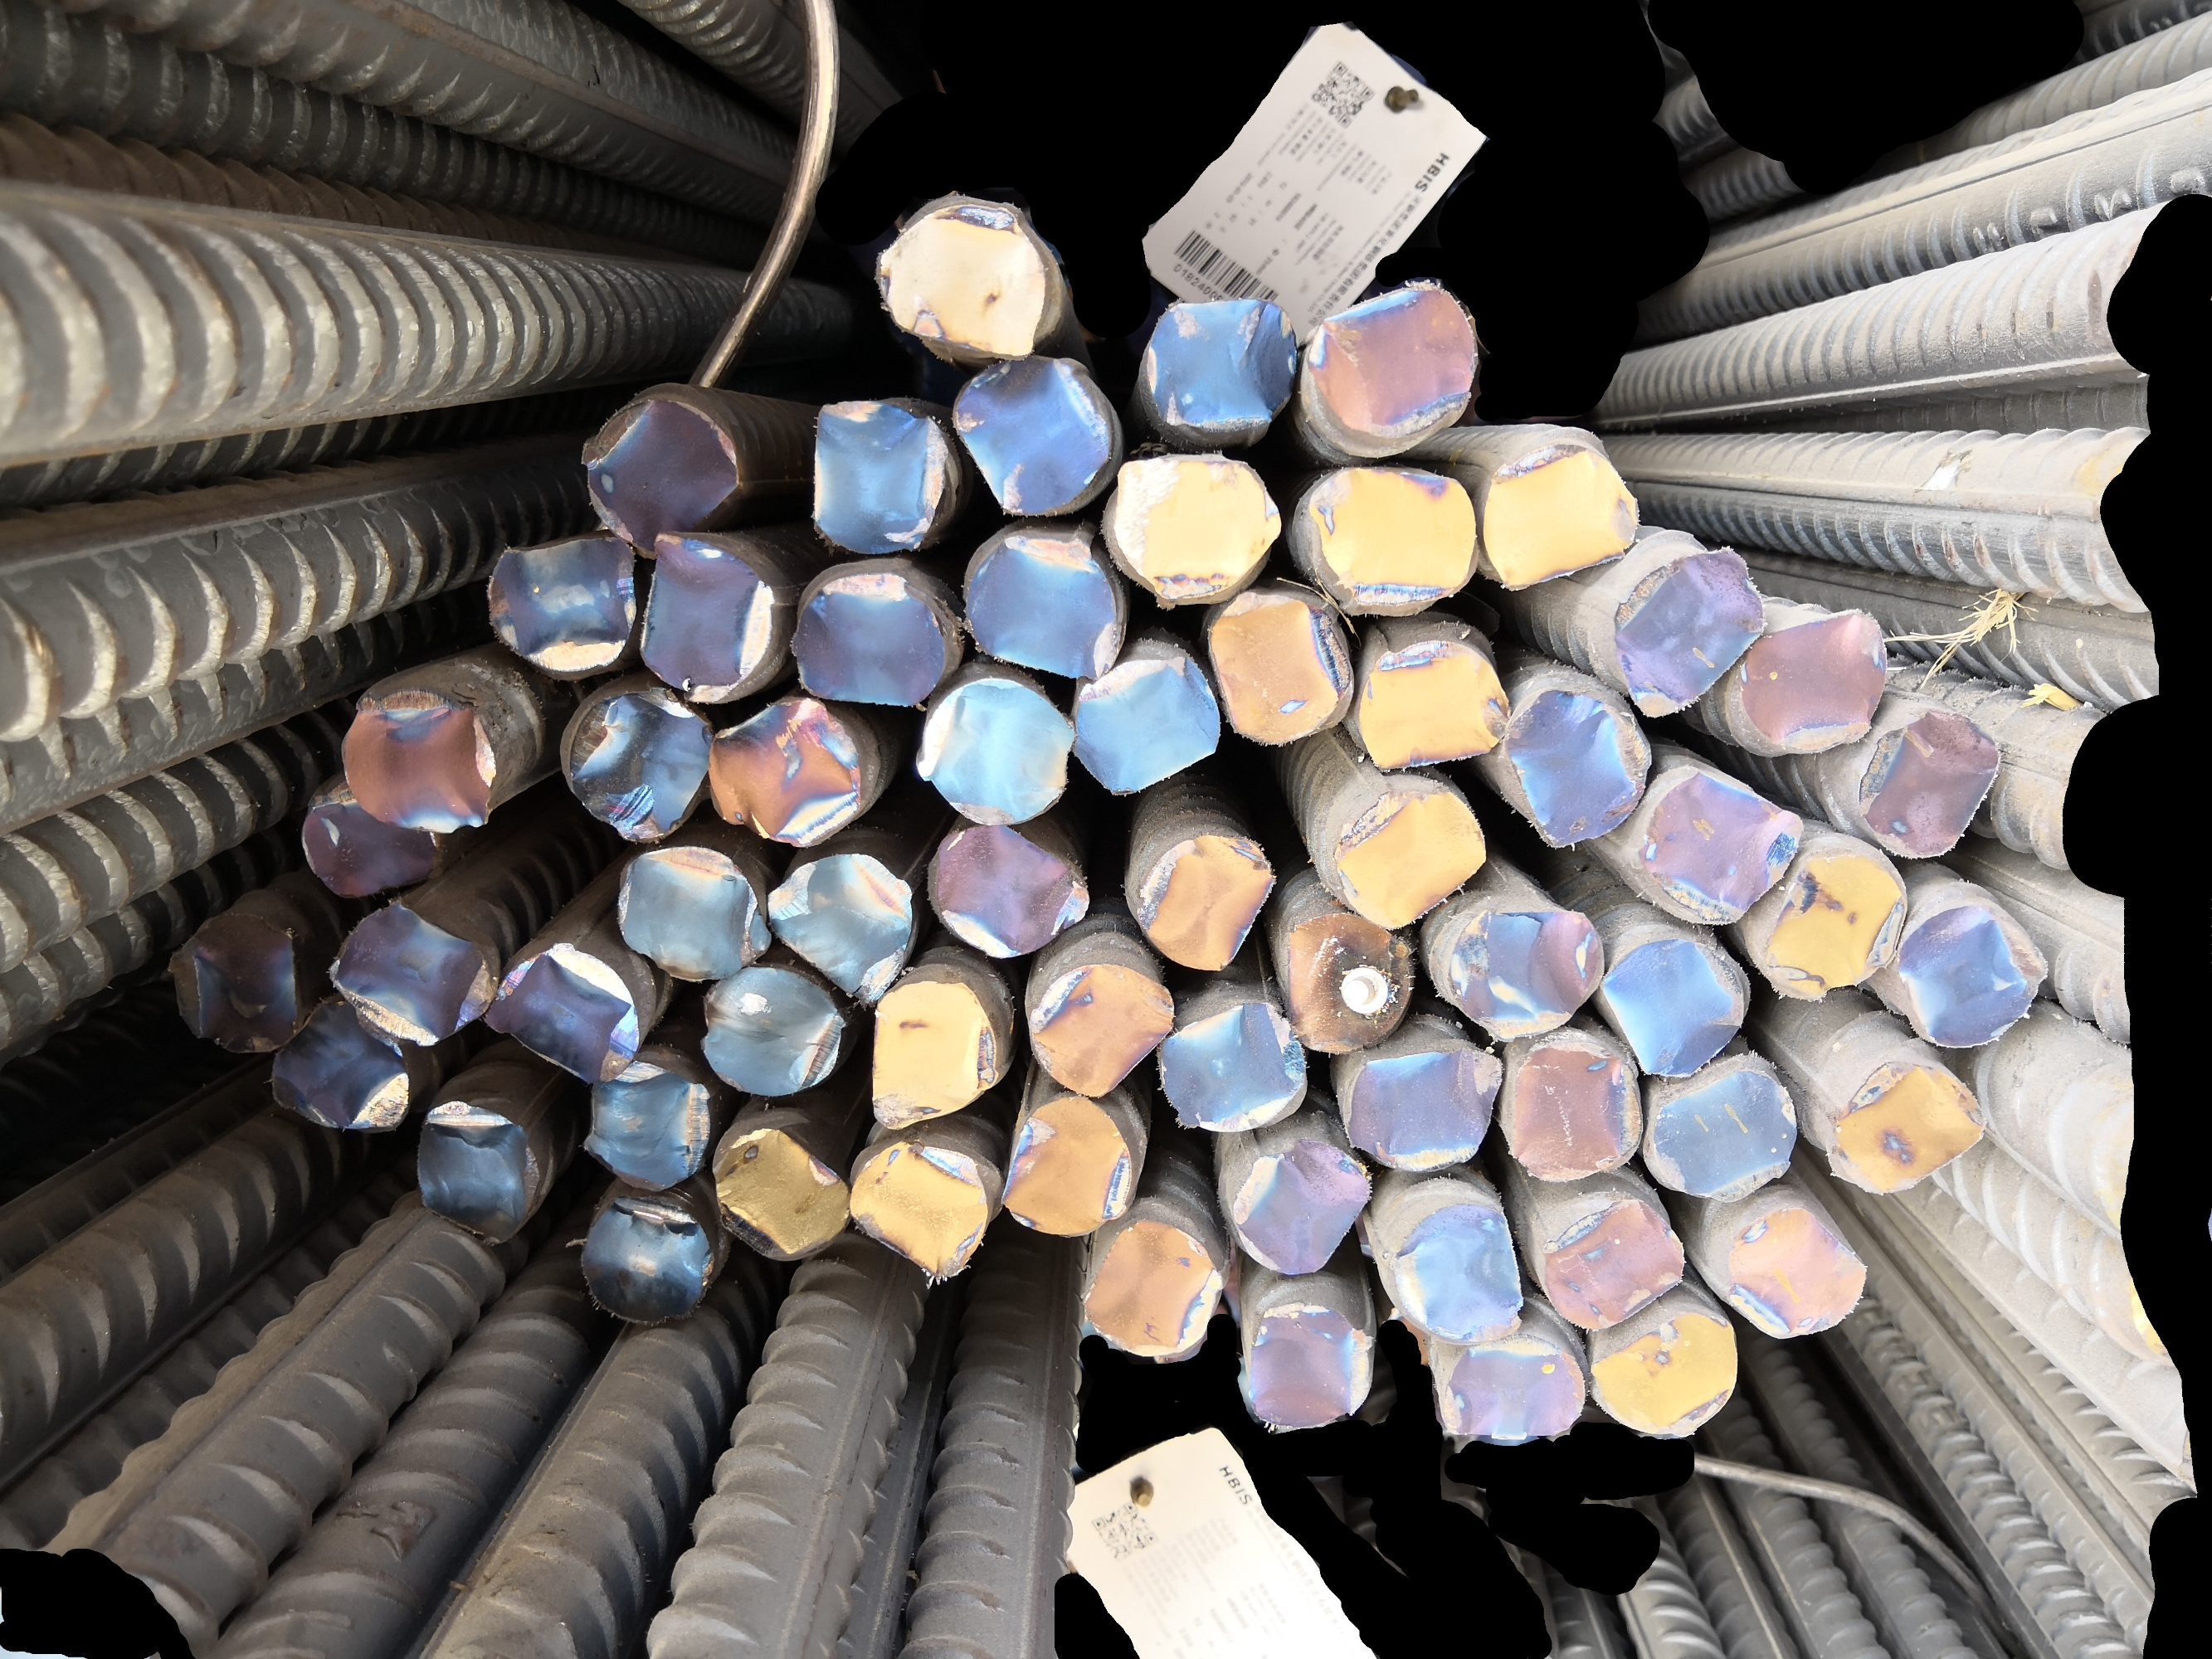rebar: (1297, 455, 1483, 619), (1607, 540, 1771, 725), (1304, 275, 1483, 441), (1109, 446, 1288, 612), (1630, 765, 1811, 929), (945, 350, 1114, 519), (873, 200, 1048, 364), (577, 396, 746, 559), (1497, 685, 1659, 856), (1886, 892, 2053, 1054), (908, 673, 1081, 829), (758, 849, 922, 1012), (701, 690, 868, 850), (633, 525, 777, 709), (1480, 434, 1645, 594), (1703, 1190, 1876, 1344), (1731, 605, 1898, 762), (560, 683, 716, 849), (1199, 586, 1353, 751), (959, 530, 1124, 681), (335, 685, 502, 835), (326, 897, 495, 1046), (1327, 784, 1490, 936), (1333, 1039, 1510, 1178), (926, 817, 1095, 962), (1757, 849, 1912, 1006), (1213, 1133, 1377, 1279), (1825, 1056, 1994, 1197), (805, 394, 950, 558), (610, 842, 776, 985), (1349, 634, 1518, 774), (1075, 1211, 1227, 1366), (1065, 653, 1224, 802), (1644, 1063, 1806, 1208), (1443, 903, 1607, 1046), (1855, 708, 2005, 863), (1494, 1040, 1654, 1185), (483, 533, 645, 676), (786, 568, 950, 709), (481, 941, 641, 1084), (1583, 1302, 1745, 1443), (1149, 999, 1313, 1138), (1590, 934, 1743, 1082), (1534, 1195, 1693, 1337), (1023, 958, 1180, 1100), (1232, 1297, 1386, 1439), (1143, 295, 1300, 434), (694, 962, 852, 1100), (847, 1138, 992, 1286), (1386, 1197, 1527, 1349), (866, 976, 1002, 1133), (997, 1091, 1137, 1243), (1135, 829, 1279, 974), (711, 1126, 858, 1267), (1279, 908, 1417, 1058), (265, 995, 408, 1138), (570, 1190, 716, 1328), (166, 908, 302, 1056), (1433, 1328, 1590, 1452), (413, 1098, 544, 1244), (293, 784, 455, 901), (582, 1056, 715, 1197)
